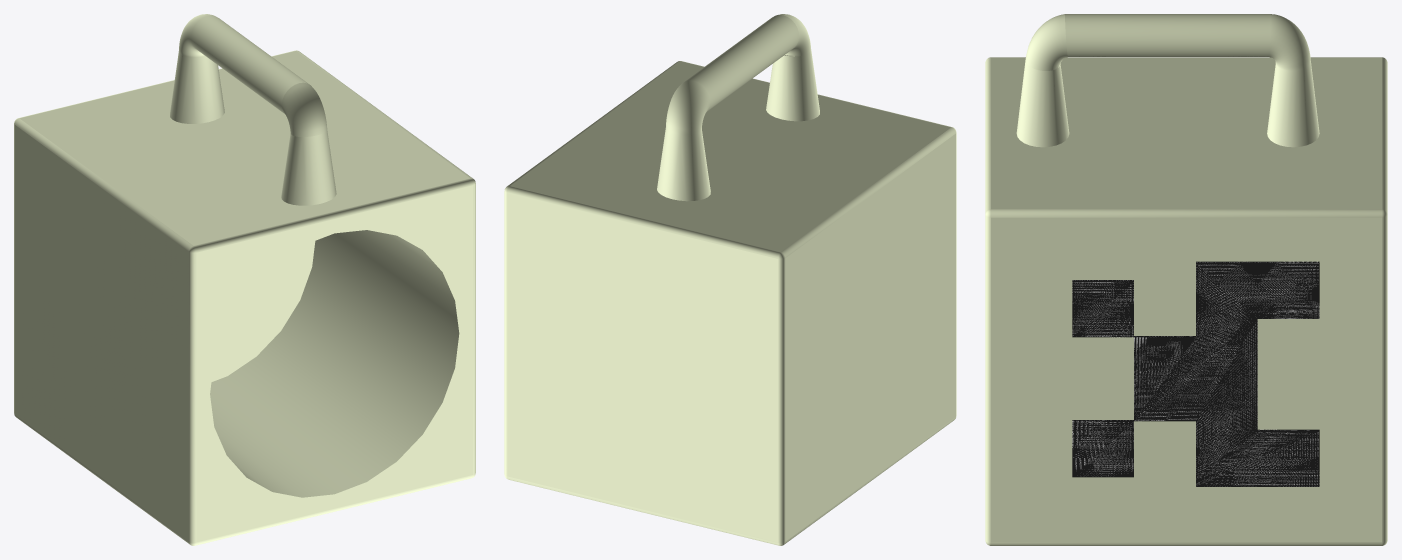
Rendered from model_align.obj.
3 views of the same model, side by side, from view 1: azimuth 30°, elevation 25°; view 2: azimuth 150°, elevation 25°; view 3: azimuth 270°, elevation 25° (orthographic). The views are drawn at different scales.
Visible parts, largest first — view 1: mesh5_mesh5-geometry, mesh2_mesh2-geometry; view 2: mesh5_mesh5-geometry, mesh2_mesh2-geometry; view 3: mesh5_mesh5-geometry, mesh1_mesh1-geometry, mesh2_mesh2-geometry.
Boxes of the visible parts, <box> form: mesh5_mesh5-geometry: <box>14,50,475,545</box>; mesh2_mesh2-geometry: <box>170,14,336,205</box>; mesh5_mesh5-geometry: <box>504,61,956,545</box>; mesh2_mesh2-geometry: <box>657,14,819,201</box>; mesh5_mesh5-geometry: <box>985,57,1387,545</box>; mesh1_mesh1-geometry: <box>1072,261,1319,486</box>; mesh2_mesh2-geometry: <box>1016,14,1319,147</box>.
Size of the model in its own units: 0.0971 by 0.13 by 0.1045.
